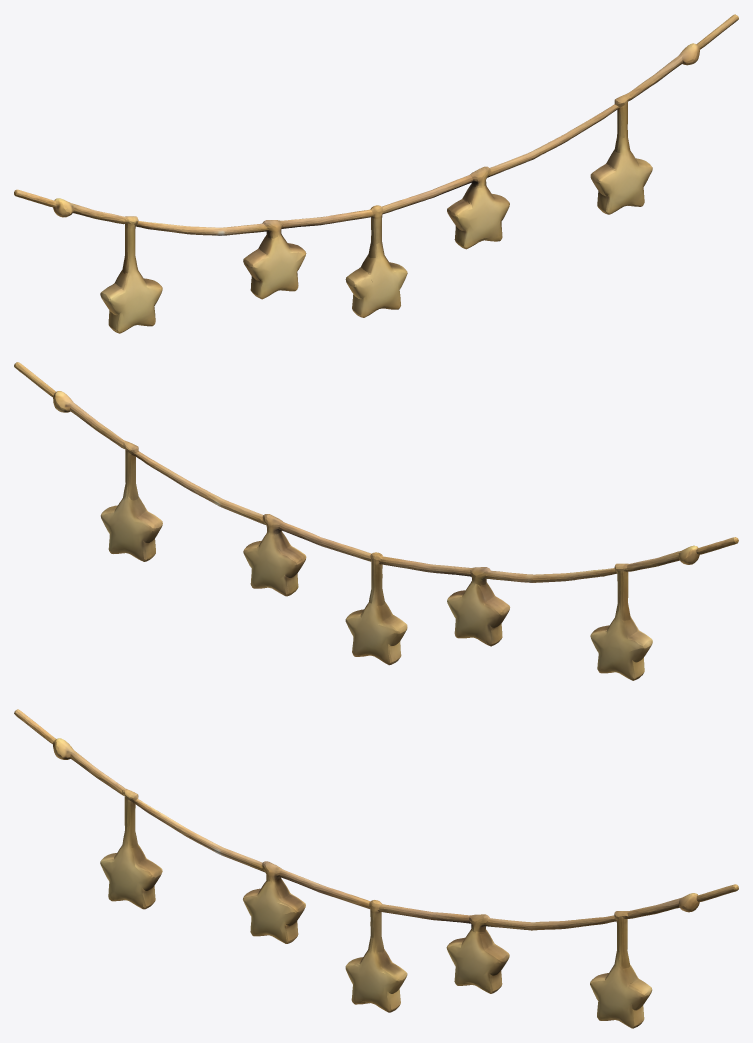
File: WallDecorate_Star.glb
3 views of the same model, one above another, from view 1: azimuth 30°, elevation 25°; view 2: azimuth 150°, elevation 25°; view 3: azimuth 330°, elevation 25° (orthographic).
Parts seen in each view (by area): view 1: model; view 2: model; view 3: model.
Part boxes in pixels (<box>): model: <box>14,14,738,333</box>; model: <box>14,362,738,680</box>; model: <box>14,709,738,1028</box>.
Bounding box in the file's own units: 1.83 × 0.5058 × 0.0634.
Materials: 1 (1 with a texture image).
